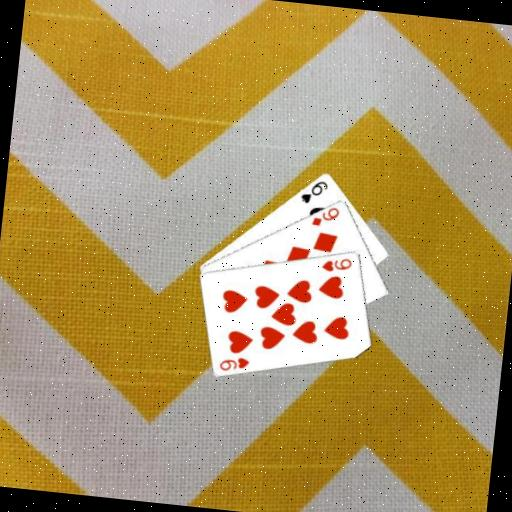6S: (297, 176, 330, 207)
9D: (309, 202, 342, 230)
9H: (318, 253, 354, 276), (216, 352, 252, 375)
